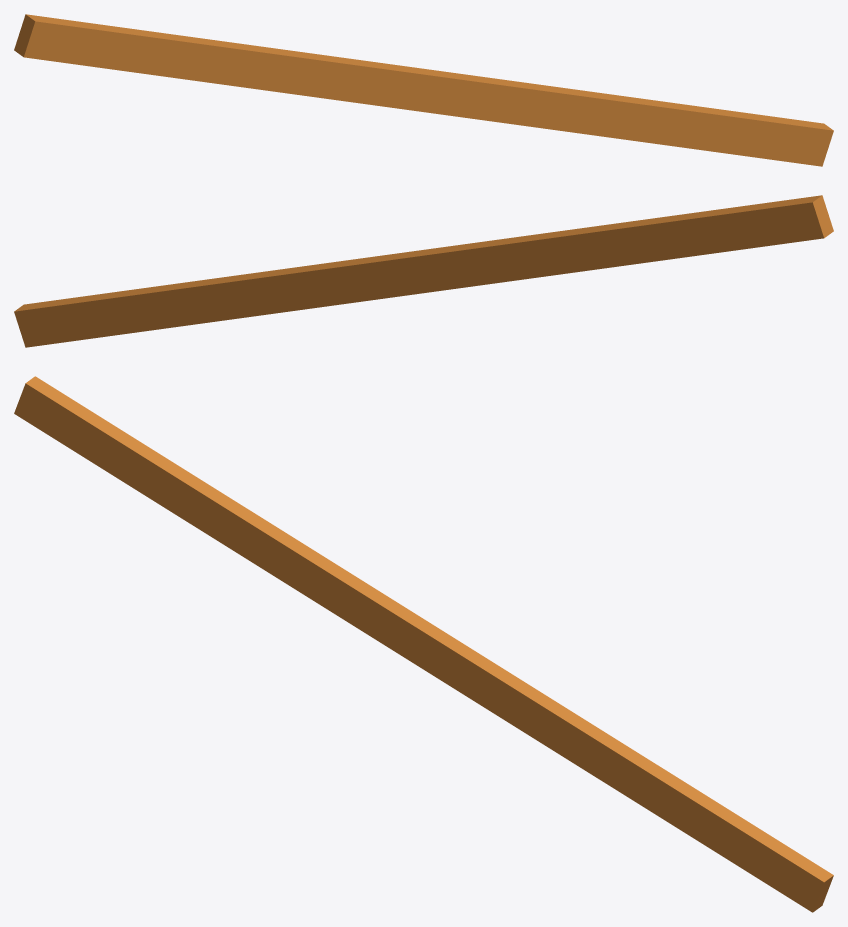
3 renders of one model, top to bottom at view 1: azimuth 30°, elevation 25°; view 2: azimuth 150°, elevation 25°; view 3: azimuth 330°, elevation 25°, orthographic.
Visible parts, largest first — view 1: L4-6-S7-3F6-M02; view 2: L4-6-S7-3F6-M02; view 3: L4-6-S7-3F6-M02.
Boxes of the visible parts, <box> form: L4-6-S7-3F6-M02: <box>14,14,833,166</box>; L4-6-S7-3F6-M02: <box>14,195,833,347</box>; L4-6-S7-3F6-M02: <box>14,376,833,912</box>.
Size of the model in its own units: 2.16 by 0.8595 by 0.045.
